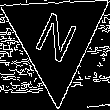N_SW: (30, 7, 82, 69)
